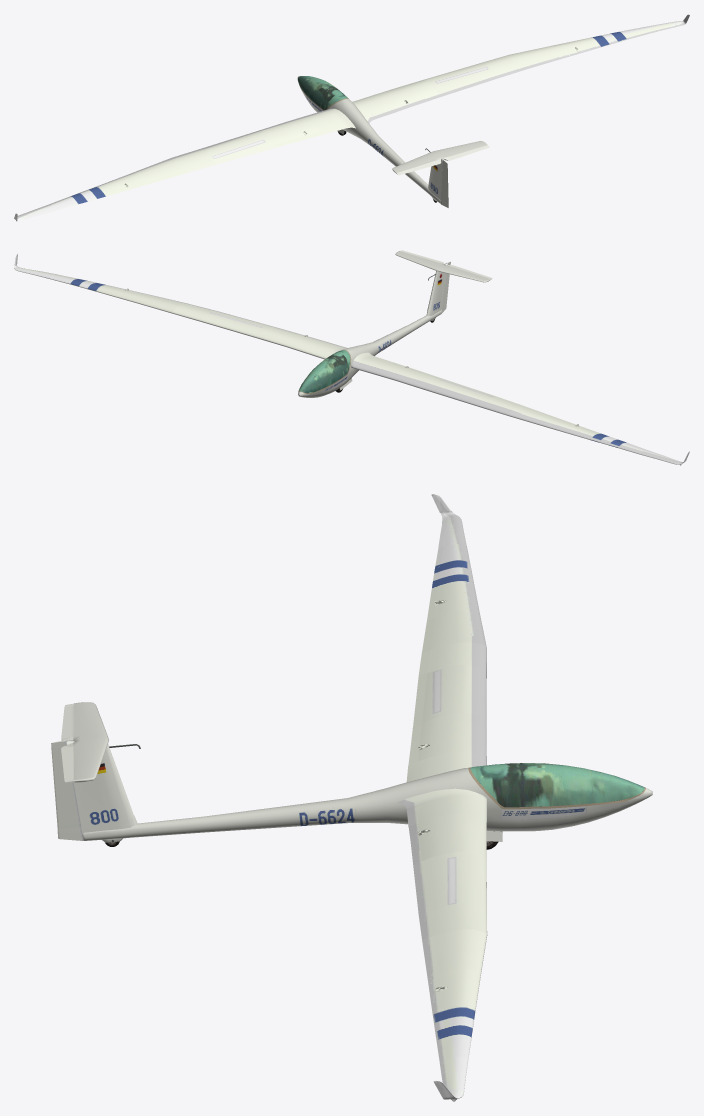
Rendered from DG_800S_stat.gltf.
The picture shows the model from 3 angles, top to bottom: view 1: azimuth 30°, elevation 25°; view 2: azimuth 150°, elevation 25°; view 3: azimuth 270°, elevation 25°; orthographic projection. The views are drawn at different scales.
Visible parts, largest first — view 1: node1, node17, node12, node19; view 2: node1, node17, node19, node12; view 3: node1, node17, node12, node19, node3.
Part boxes in pixels (box(x1,y1,x2,y2)): node1: box(14, 14, 689, 221); node17: box(297, 76, 487, 203); node12: box(396, 145, 489, 207); node19: box(298, 76, 347, 109); node1: box(14, 254, 689, 465); node17: box(298, 251, 490, 397); node19: box(298, 350, 350, 393); node12: box(400, 250, 492, 320); node1: box(397, 494, 487, 1101); node17: box(73, 702, 652, 841); node12: box(51, 703, 137, 842); node19: box(470, 763, 644, 807); node3: box(501, 806, 586, 820).
Size of the model in its own units: 17.89 by 1.42 by 6.94.
